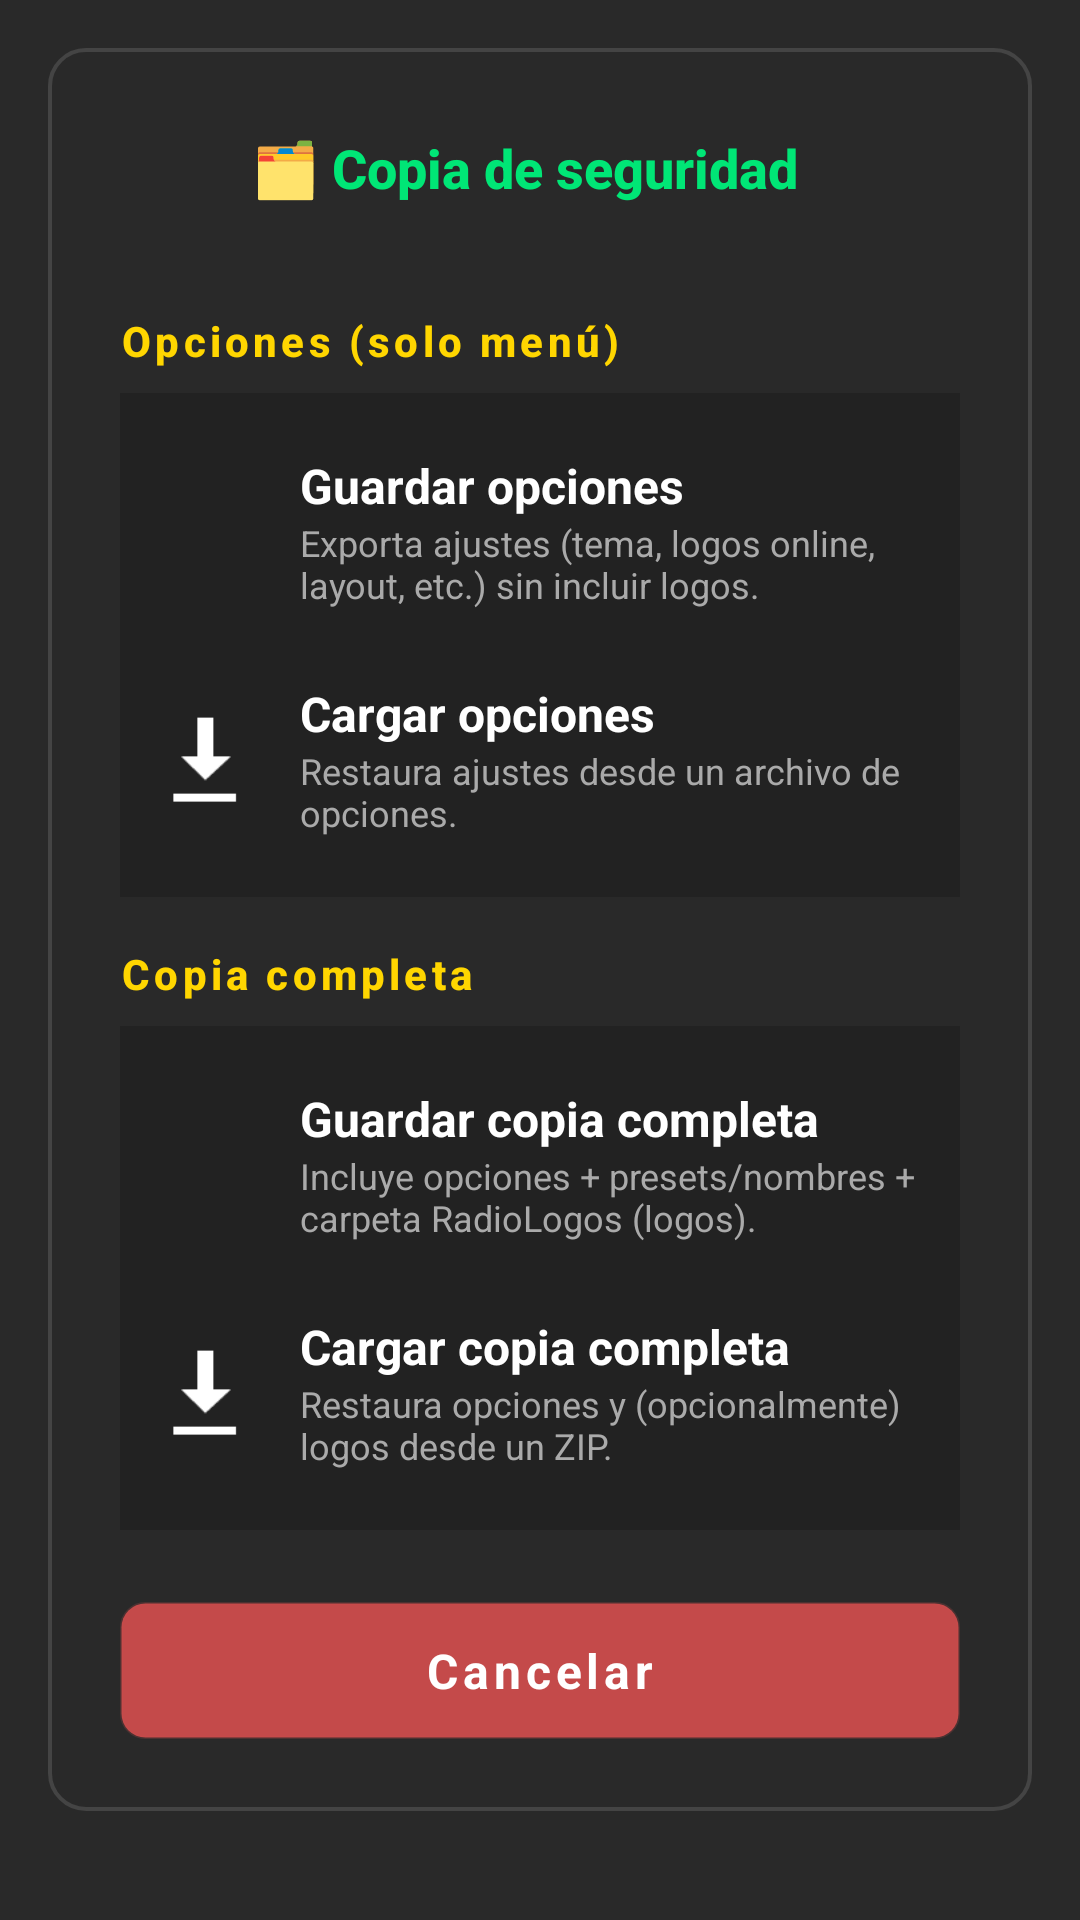

Screen size 1080w x 1920h. Icon name, then its center in pixels as point (x, y):
download: point (205, 759), point (205, 1392)
